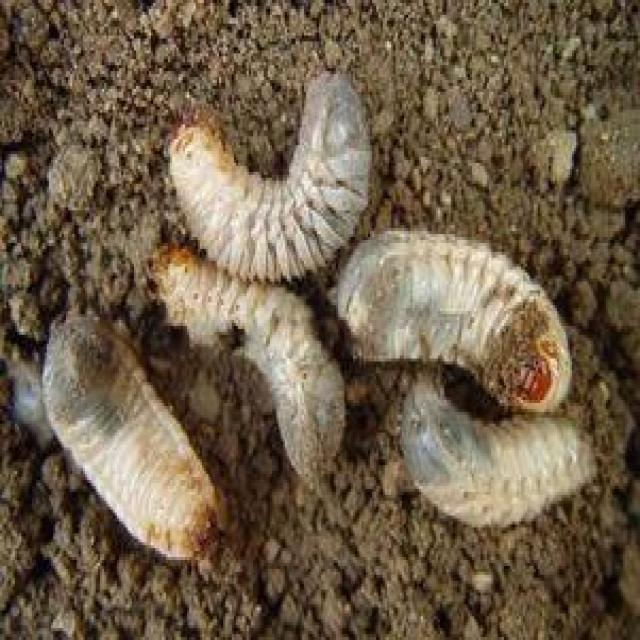Grub-Adult-: (342, 218, 582, 427), (151, 242, 357, 484), (42, 304, 222, 570), (172, 72, 378, 287), (392, 378, 601, 530)
